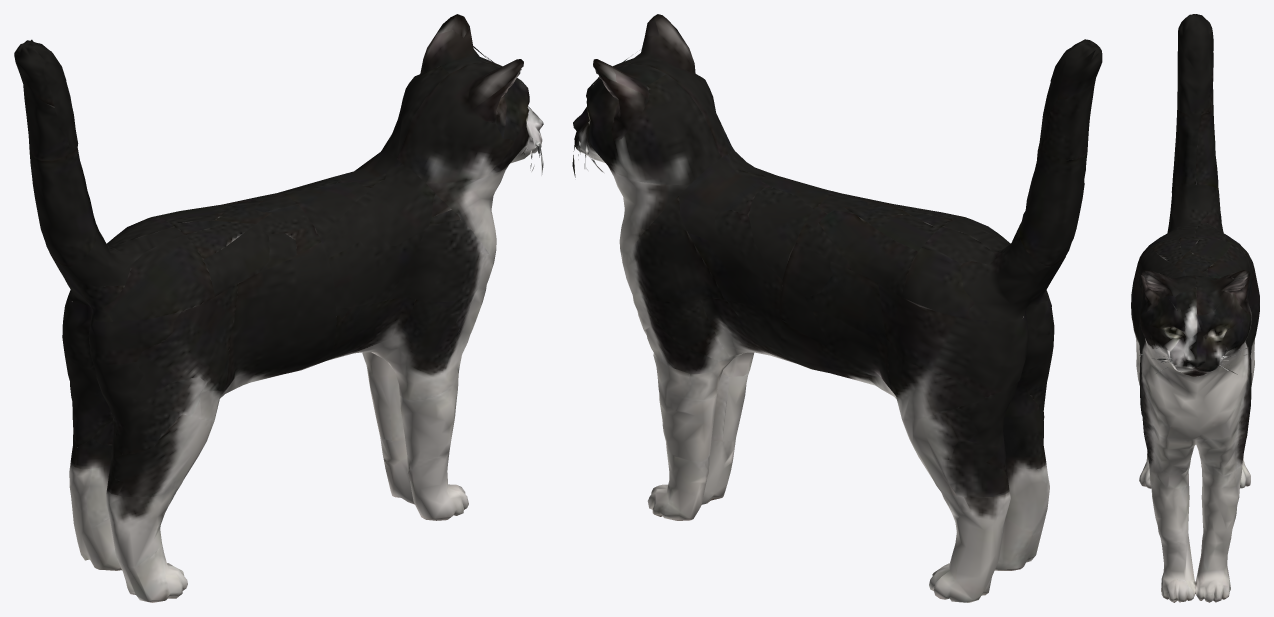
The model's file is TONCHAN-lo.glb.
3 views of the same model, side by side, from view 1: azimuth 30°, elevation 25°; view 2: azimuth 150°, elevation 25°; view 3: azimuth 270°, elevation 25° (orthographic). The views are drawn at different scales.
Parts seen in each view (by area): view 1: tripo_node_2704f476-9c8d-4243-9574-8c6b34a2338b; view 2: tripo_node_2704f476-9c8d-4243-9574-8c6b34a2338b; view 3: tripo_node_2704f476-9c8d-4243-9574-8c6b34a2338b.
Boxes of the visible parts, bbox=[...] form: tripo_node_2704f476-9c8d-4243-9574-8c6b34a2338b: bbox=[14, 14, 543, 602]; tripo_node_2704f476-9c8d-4243-9574-8c6b34a2338b: bbox=[572, 14, 1102, 602]; tripo_node_2704f476-9c8d-4243-9574-8c6b34a2338b: bbox=[1131, 14, 1259, 602].
Bounding box in the file's own units: 0.976 × 0.9988 × 0.2701.
Materials: 1 (1 with a texture image).
